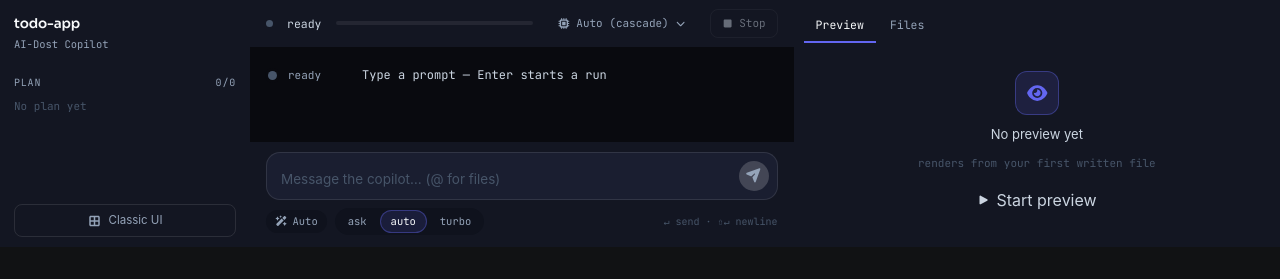
CopilotAurora (P11 A2 — real run wiring) › Stop aborts the local stream AND cancels server-side
Type "long running task" into the text box with test id "aurora-composer-input".
click(506, 180); type("long running task")  # box x1=281 y1=168 x2=731 y2=190
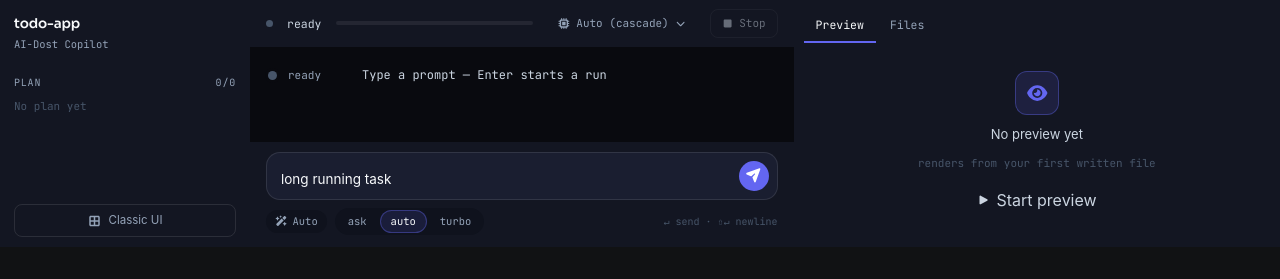
Press Enter in the text box with test id "aurora-composer-input", box x1=281 y1=168 x2=731 y2=190
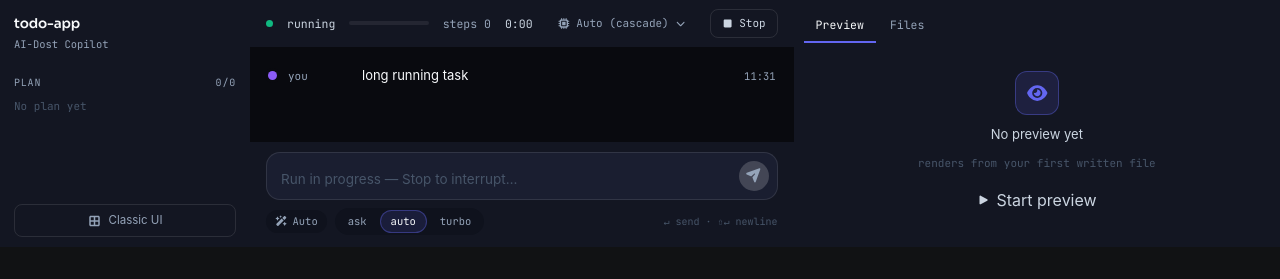
Now the button with test id "aurora-stop" is enabled
Click the button with test id "aurora-stop".
click(744, 23)  # box x1=710 y1=9 x2=778 y2=38
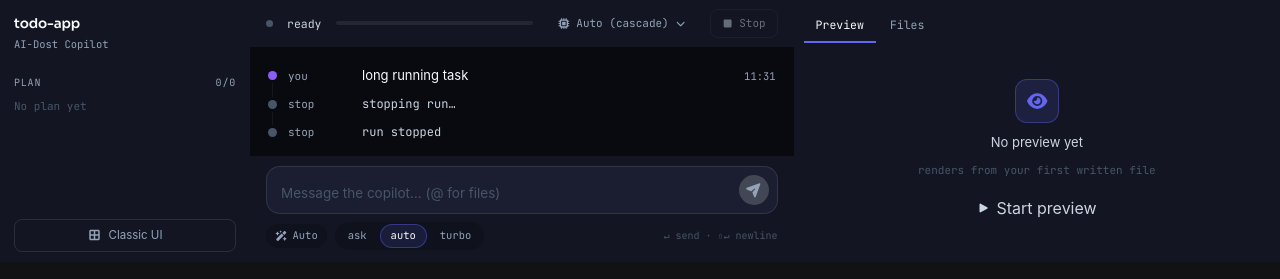
Now the text "run stopped" is shown, box x1=362 y1=124 x2=441 y2=140
Now the button with test id "aurora-stop" is disabled, box x1=710 y1=9 x2=778 y2=38
